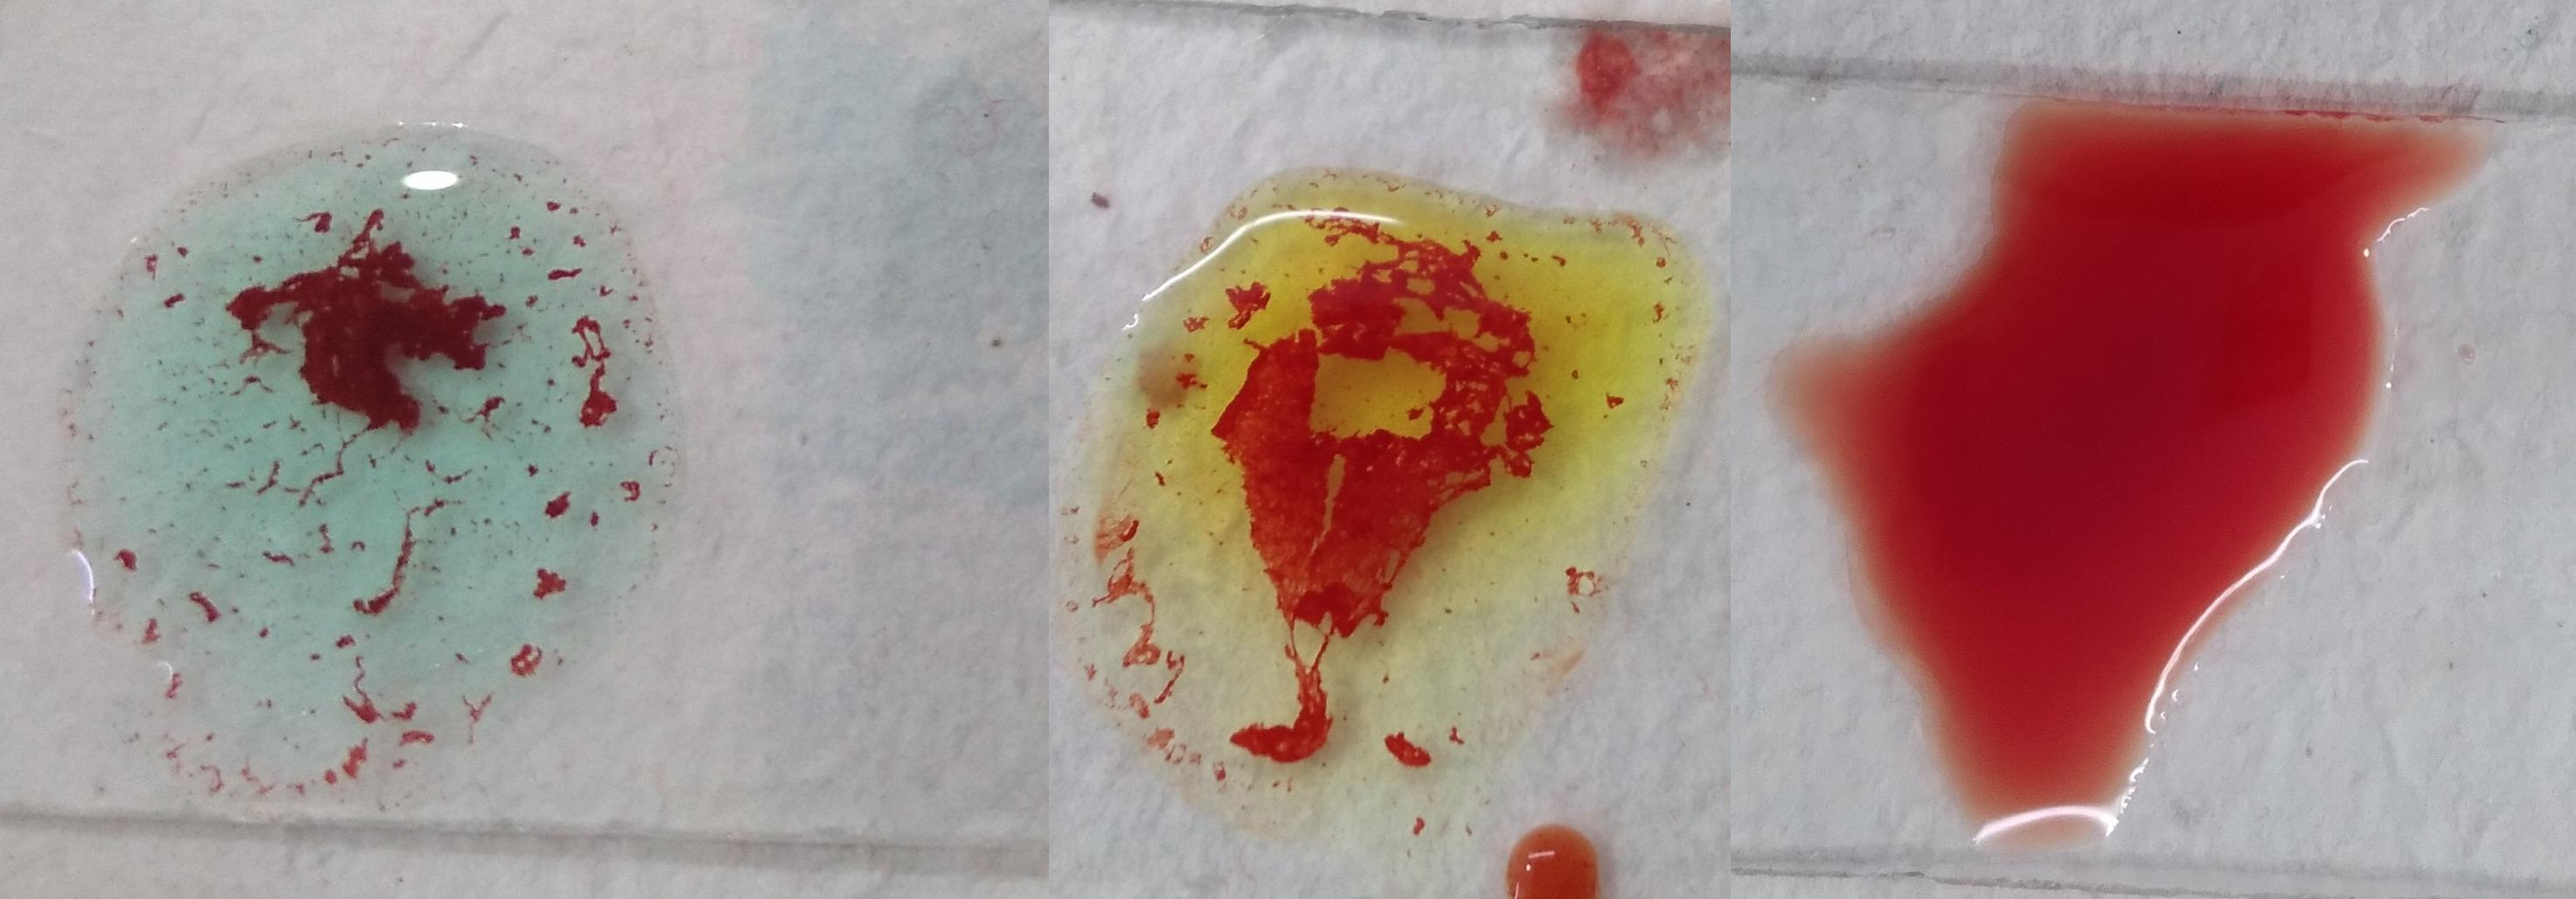A: (64, 128, 675, 805)
B: (1112, 159, 1676, 830)
